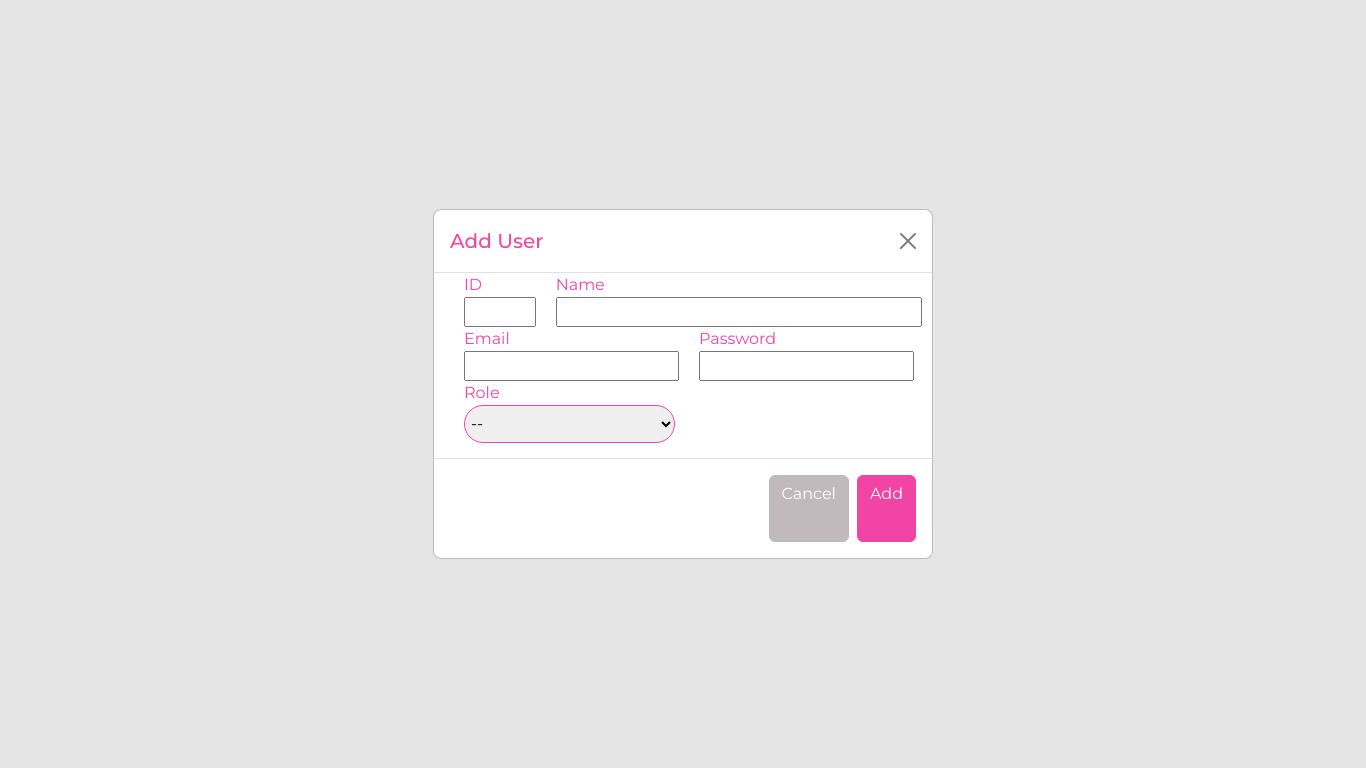
Scenario: AddUser Component › should add a new user
Click the button with test id "btn_modal": point(886, 509) x1=857 y1=475 x2=916 y2=542
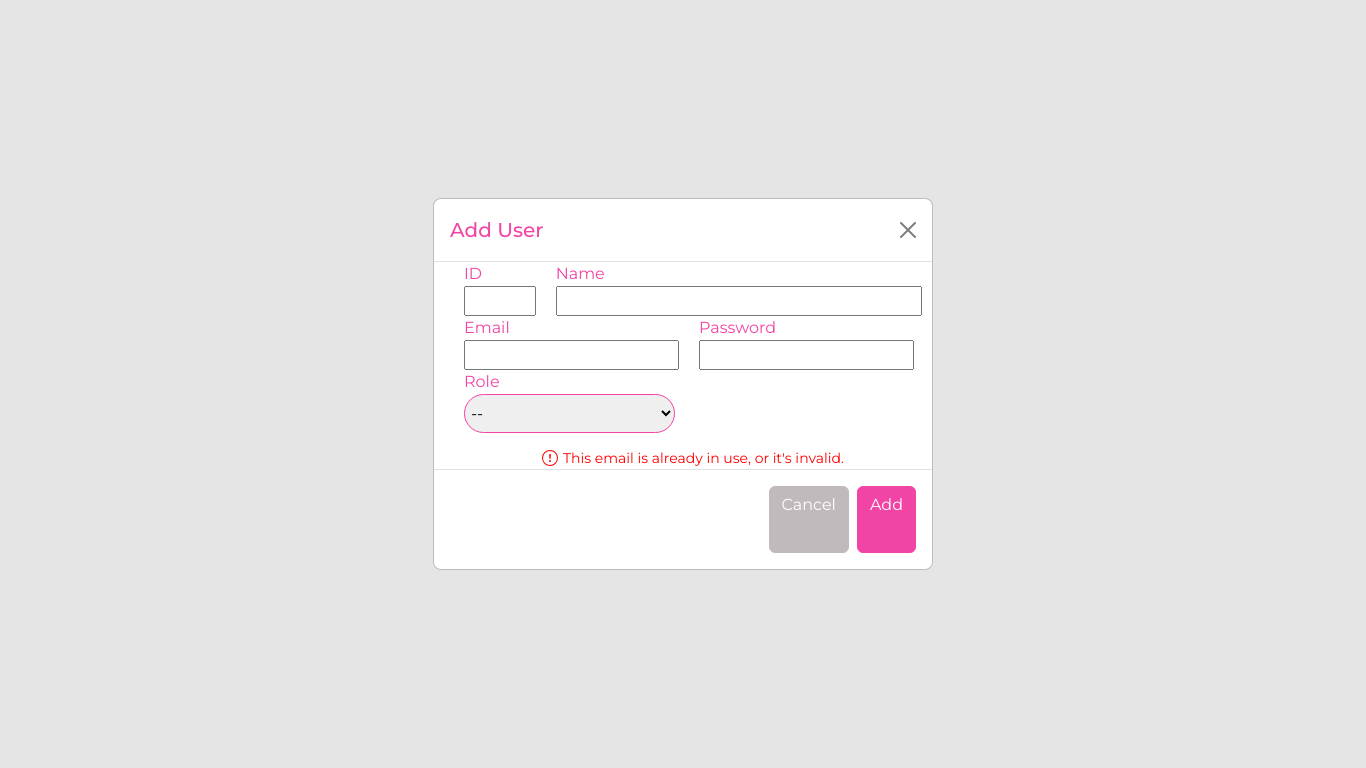
Result: the text with test id "error_message" reads "This email is already in use, or it's invalid." at x1=563 y1=449 x2=844 y2=467
